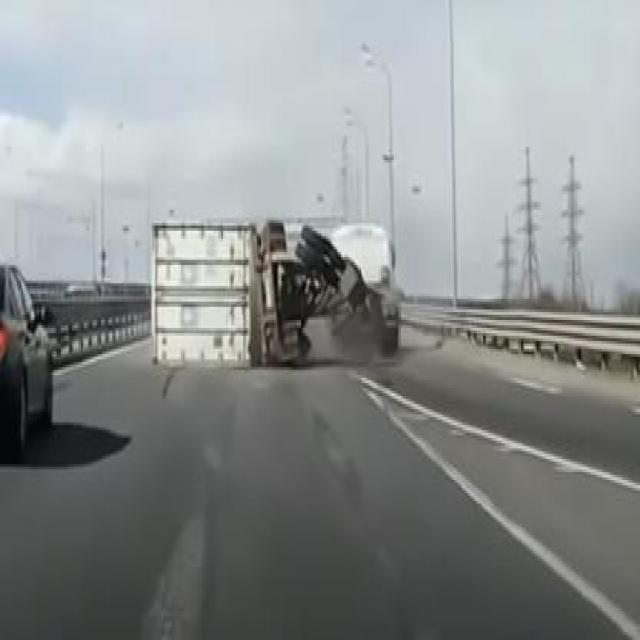accident: (138, 162, 416, 390)
